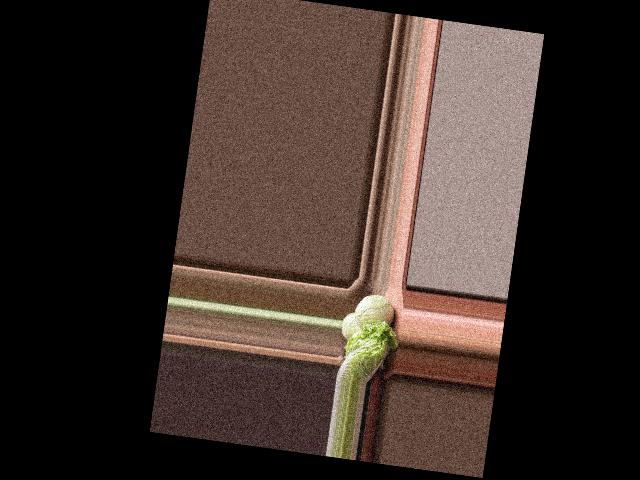lettuce: (338, 316, 401, 386)
